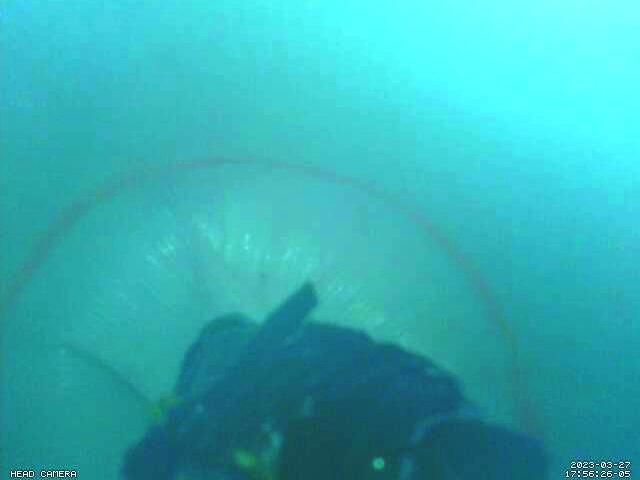head: (0, 155, 546, 447)
